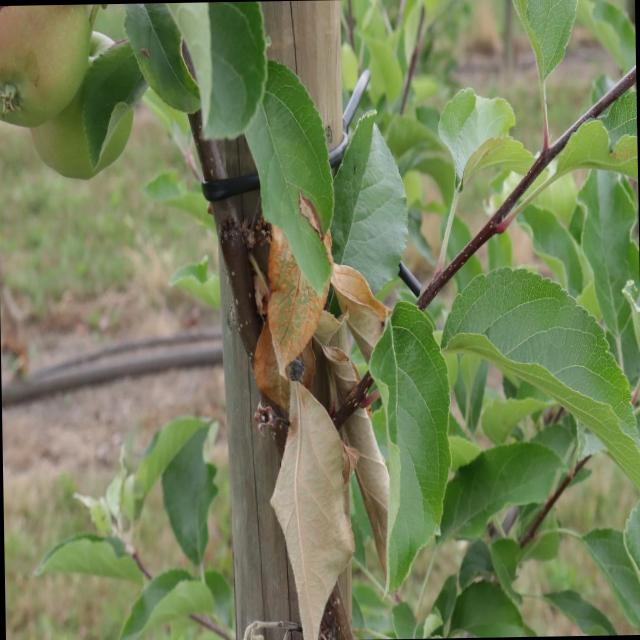-FireBlight-: (234, 210, 384, 378)
